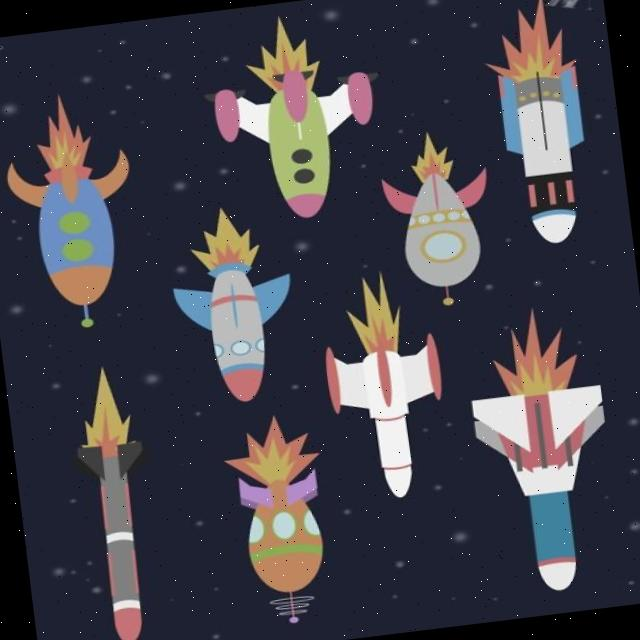rocket: (452, 376, 634, 598), (196, 62, 390, 236), (0, 141, 155, 341), (323, 330, 459, 512), (162, 251, 312, 412), (491, 56, 605, 253), (218, 466, 346, 632), (376, 161, 508, 316), (77, 436, 169, 640)
